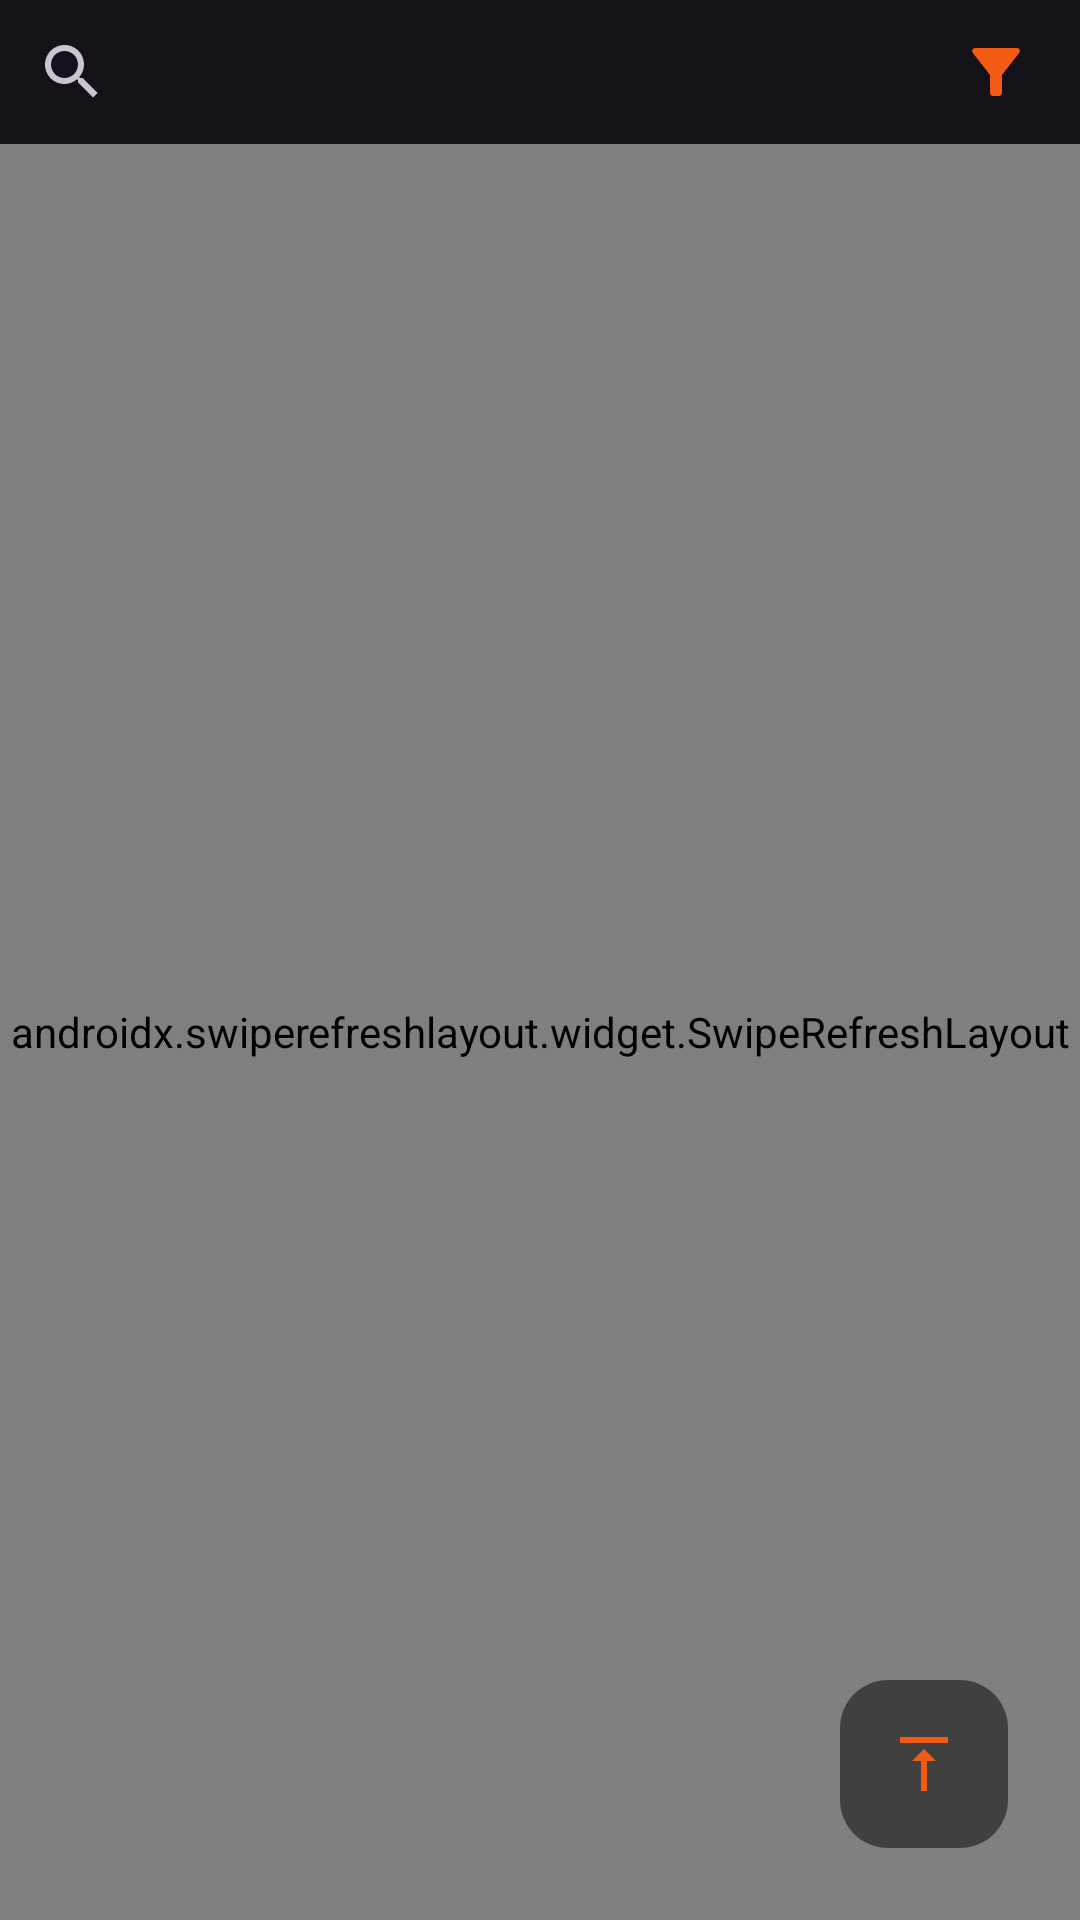

Where to tap for icons on this 1080 × 1920 app screen, as point (x, y):
filter: point (996, 72)
scroll up: point (924, 1764)
